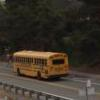Bus: (8, 47, 79, 82)
